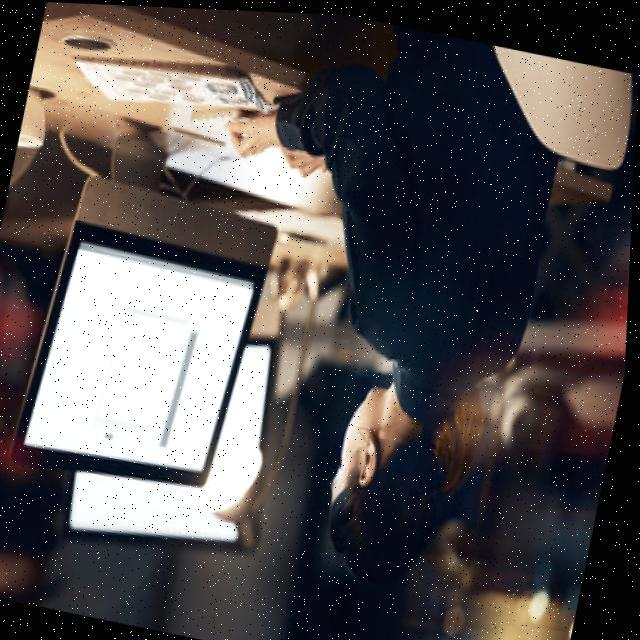desktop-person: (0, 0, 598, 611)
